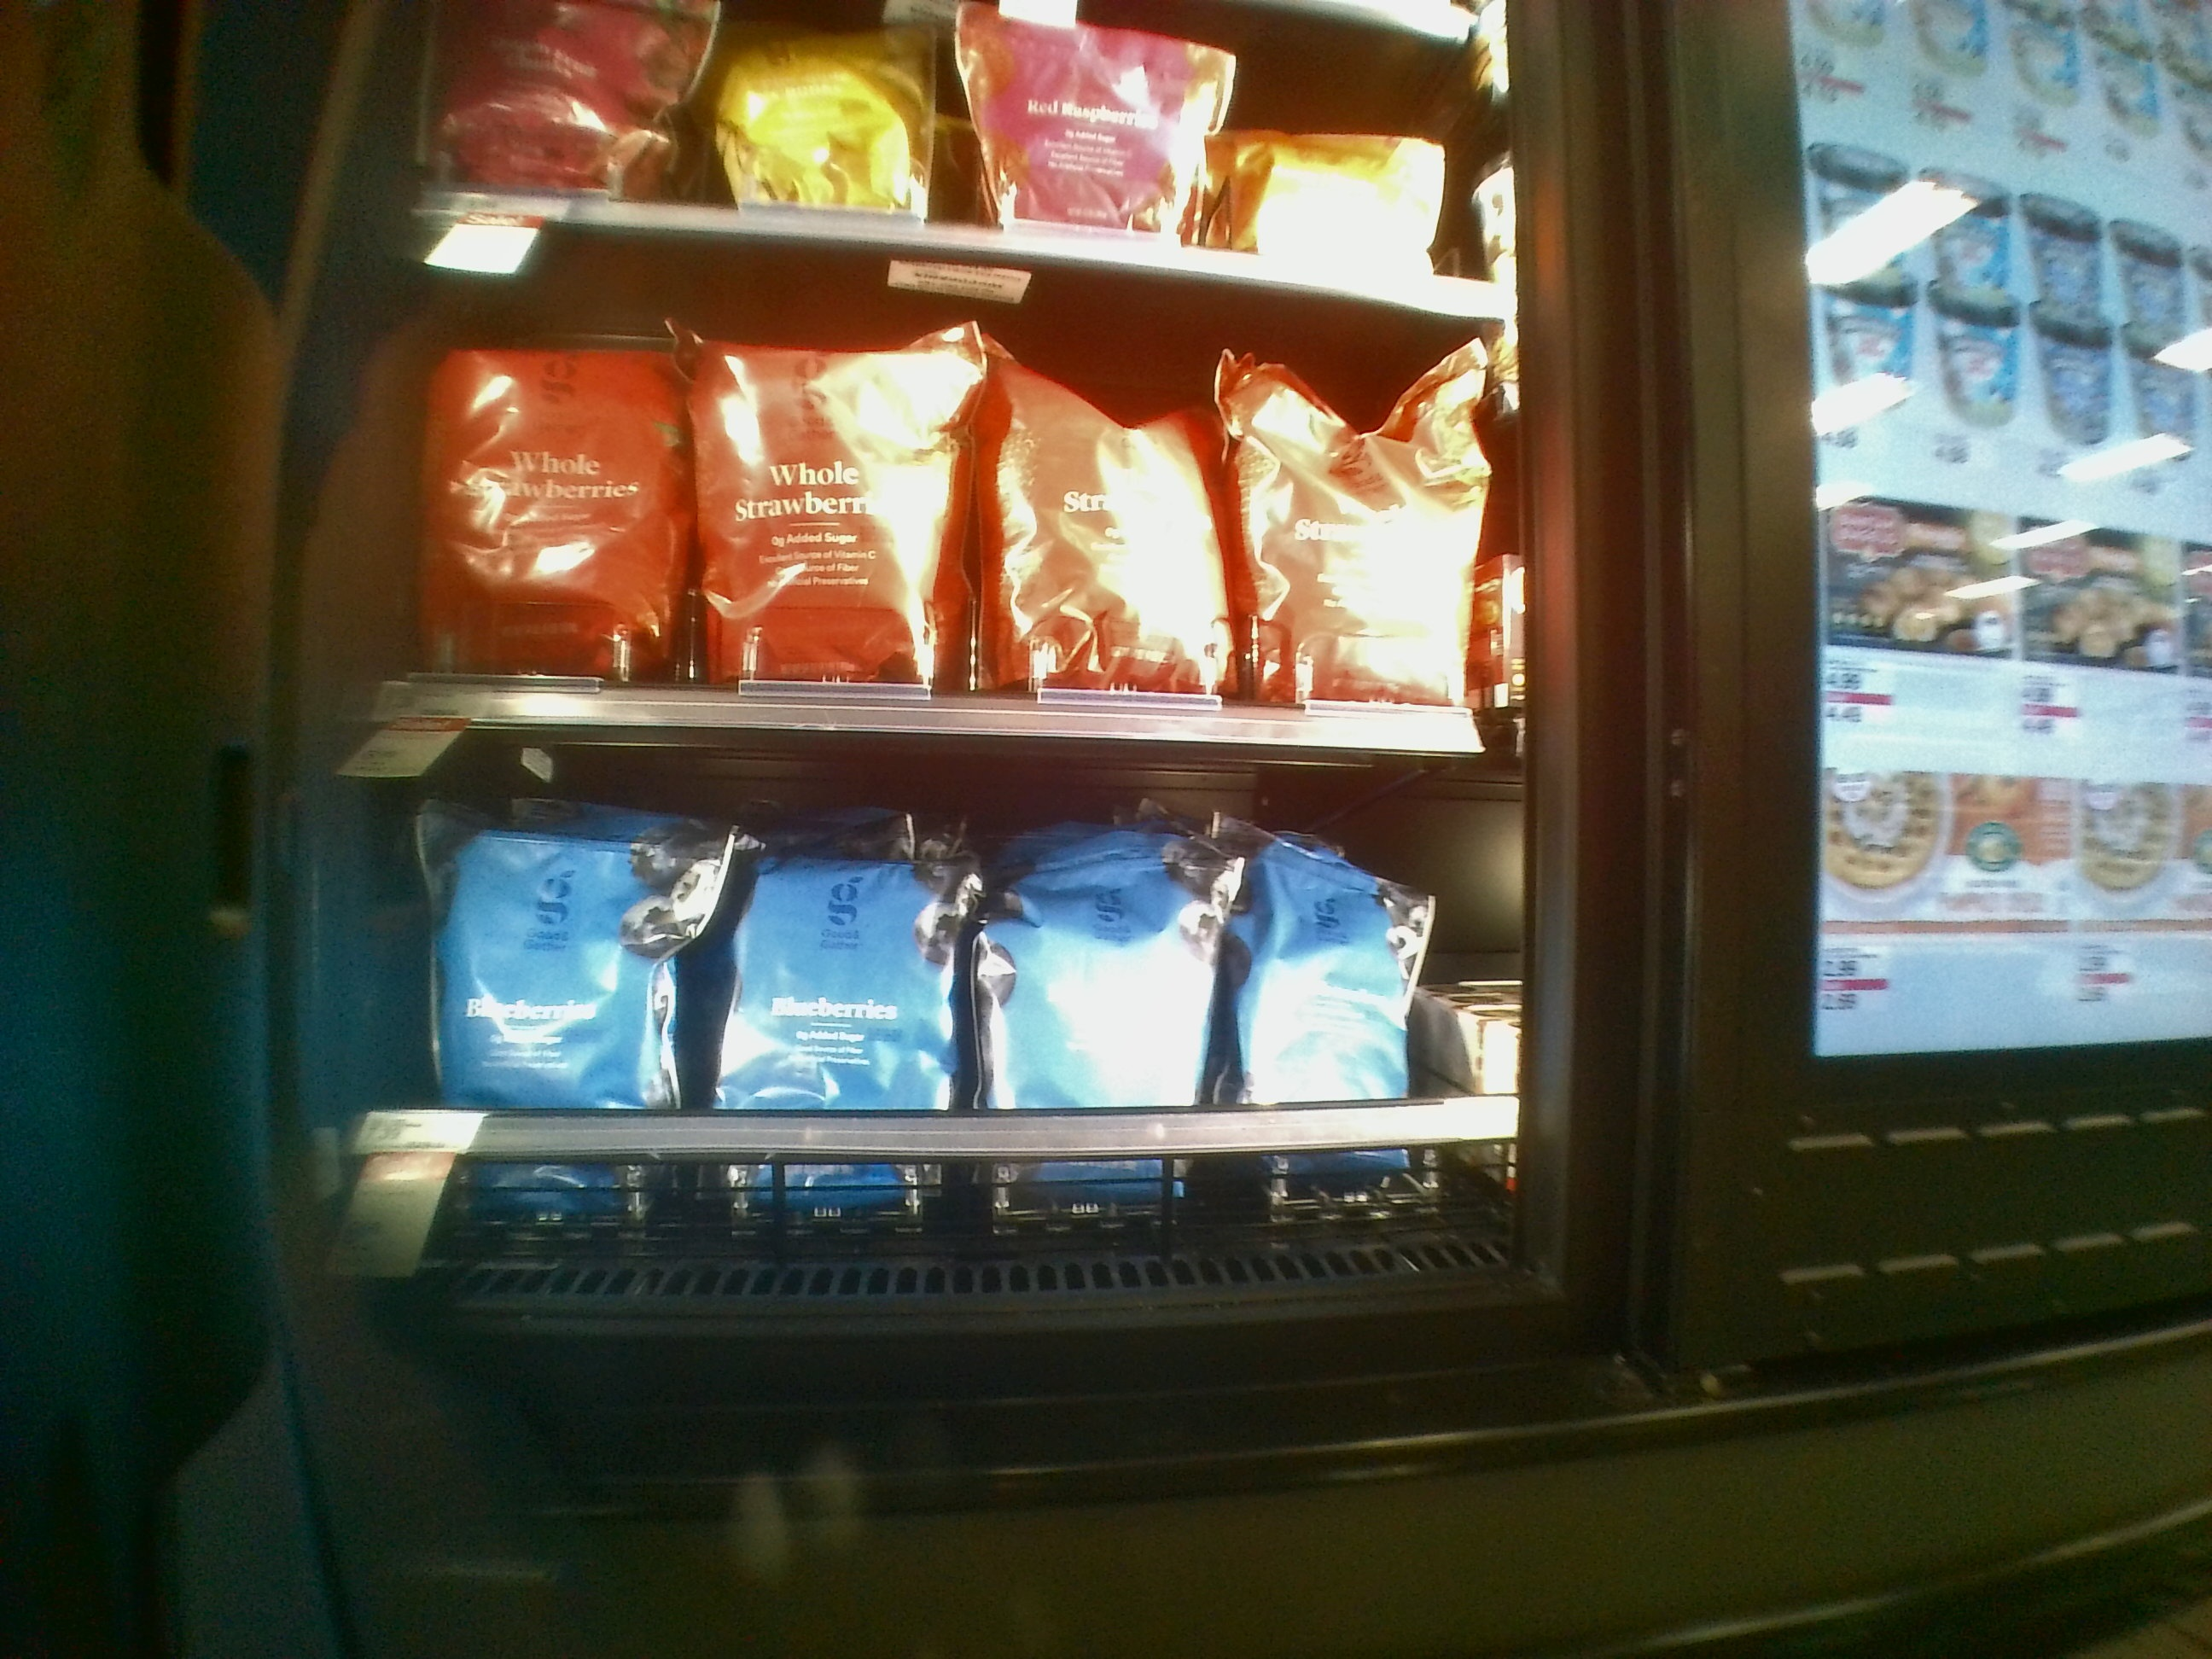shelf: (373, 730, 1526, 1293), (394, 275, 1527, 735)
